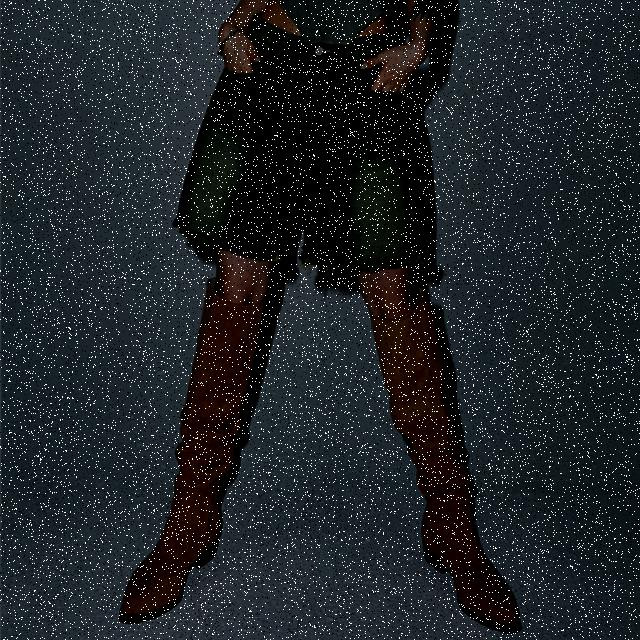dress: (191, 37, 424, 290)
